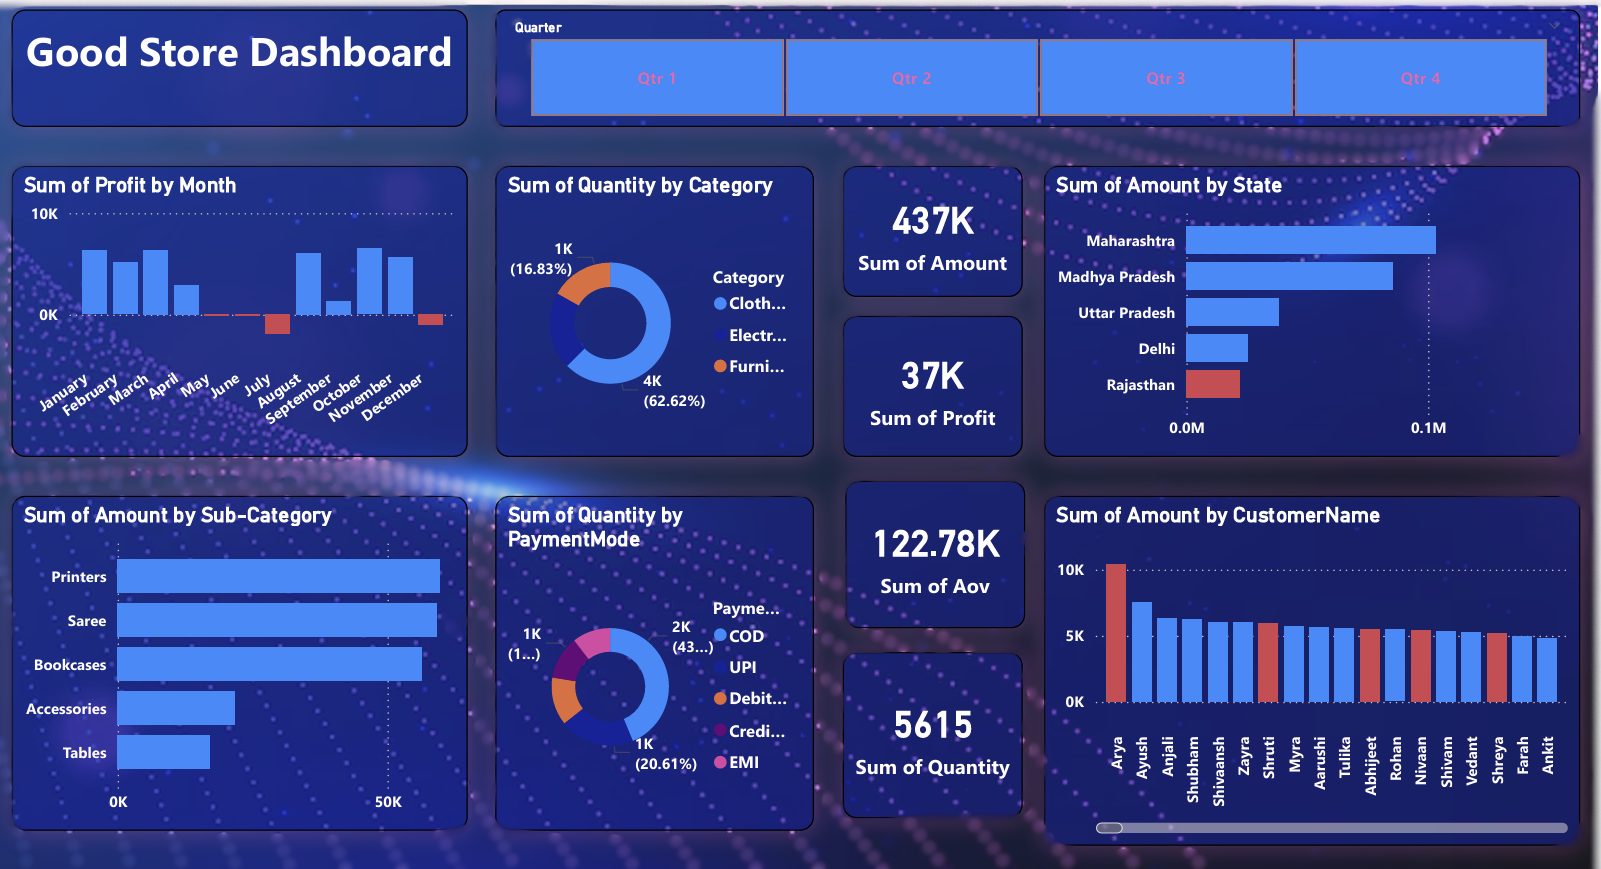

What the dashboard file says about the page in this screenshot:
{"tool":"powerbi","page":{"name":"Page 1","canvas":[1280,720],"ordinal":0},"visuals":[{"type":"textbox","box":[9.6,13.7,365,94.7],"z":0},{"type":"columnChart","fields":{"Category":["Ordersss.Order Date.Variation.Date Hierarchy.Month"],"Y":["Sum(detailss.Profit)"]},"box":[9.6,138.6,365,233.3],"z":1000},{"type":"barChart","fields":{"Y":["Sum(detailss.Amount)"],"Category":["detailss.Sub-Category"]},"box":[9.6,403.4,365,267.6],"z":2000},{"type":"donutChart","fields":{"Category":["detailss.Category"],"Y":["Sum(detailss.Quantity)"]},"box":[396.6,138.6,255.2,233.3],"z":3000},{"type":"donutChart","fields":{"Y":["Sum(detailss.Quantity)"],"Category":["detailss.PaymentMode"]},"box":[396.6,403.4,255.2,267.6],"z":4000},{"type":"barChart","fields":{"Y":["Sum(detailss.Amount)"],"Category":["Ordersss.State"]},"box":[835.7,138.6,429.5,233.3],"z":5000},{"type":"columnChart","fields":{"Category":["Ordersss.CustomerName"],"Y":["Sum(detailss.Amount)"]},"box":[835.7,403.4,429.5,279.9],"z":6000},{"type":"slicer","fields":{"Values":["Ordersss.Order Date.Variation.Date Hierarchy.Quarter"]},"box":[396.6,13.7,868.6,94.7],"z":7000},{"type":"card","fields":{"Values":["Sum(detailss.Amount)"]},"box":[675.1,138.6,144.1,105.7],"z":8000},{"type":"card","fields":{"Values":["Sum(detailss.Quantity)"]},"box":[675.1,528.3,144.1,133.1],"z":9000},{"type":"card","fields":{"Values":["Sum(detailss.Aov)"]},"box":[676.5,391.1,144.1,118],"z":10000},{"type":"card","fields":{"Values":["Sum(detailss.Profit)"]},"box":[675.1,259.3,144.1,112.5],"z":11000}]}

Visuals, with their boxes on the page's 1280x720 design canvas (x1, y1, x2, y2). These are canvas units, not pixel positions in the 1601x869 screenshot, which may show the page scaled, cropped or inside an application window:
textbox: {"left": 10, "top": 14, "right": 375, "bottom": 108}
columnChart - Ordersss.Order Date.Variation.Date Hierarchy.Month x Sum(detailss.Profit): {"left": 10, "top": 139, "right": 375, "bottom": 372}
barChart - Sum(detailss.Amount) x detailss.Sub-Category: {"left": 10, "top": 403, "right": 375, "bottom": 671}
donutChart - detailss.Category x Sum(detailss.Quantity): {"left": 397, "top": 139, "right": 652, "bottom": 372}
donutChart - Sum(detailss.Quantity) x detailss.PaymentMode: {"left": 397, "top": 403, "right": 652, "bottom": 671}
barChart - Sum(detailss.Amount) x Ordersss.State: {"left": 836, "top": 139, "right": 1265, "bottom": 372}
columnChart - Ordersss.CustomerName x Sum(detailss.Amount): {"left": 836, "top": 403, "right": 1265, "bottom": 683}
slicer - Ordersss.Order Date.Variation.Date Hierarchy.Quarter: {"left": 397, "top": 14, "right": 1265, "bottom": 108}
card - Sum(detailss.Amount): {"left": 675, "top": 139, "right": 819, "bottom": 244}
card - Sum(detailss.Quantity): {"left": 675, "top": 528, "right": 819, "bottom": 661}
card - Sum(detailss.Aov): {"left": 676, "top": 391, "right": 821, "bottom": 509}
card - Sum(detailss.Profit): {"left": 675, "top": 259, "right": 819, "bottom": 372}
